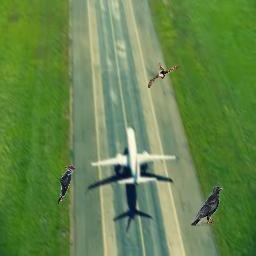Crow: (191, 186, 223, 226)
Sparrow: (148, 63, 179, 88)
Woodpecker: (58, 165, 75, 205)
